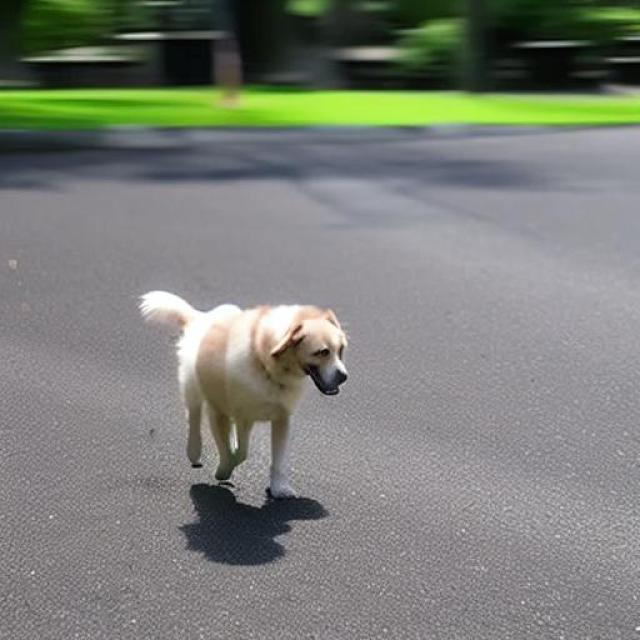Dog: (138, 291, 351, 501)
